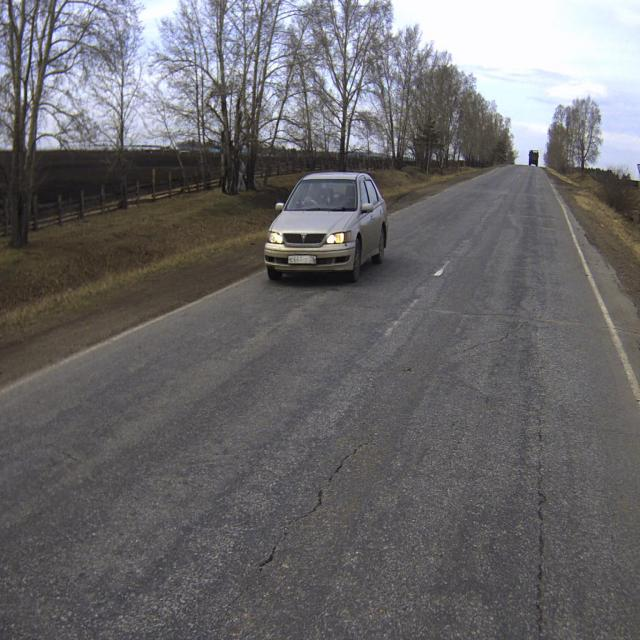road: (0, 164, 640, 639)
